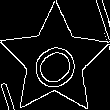O_NE: (23, 29, 86, 92)
